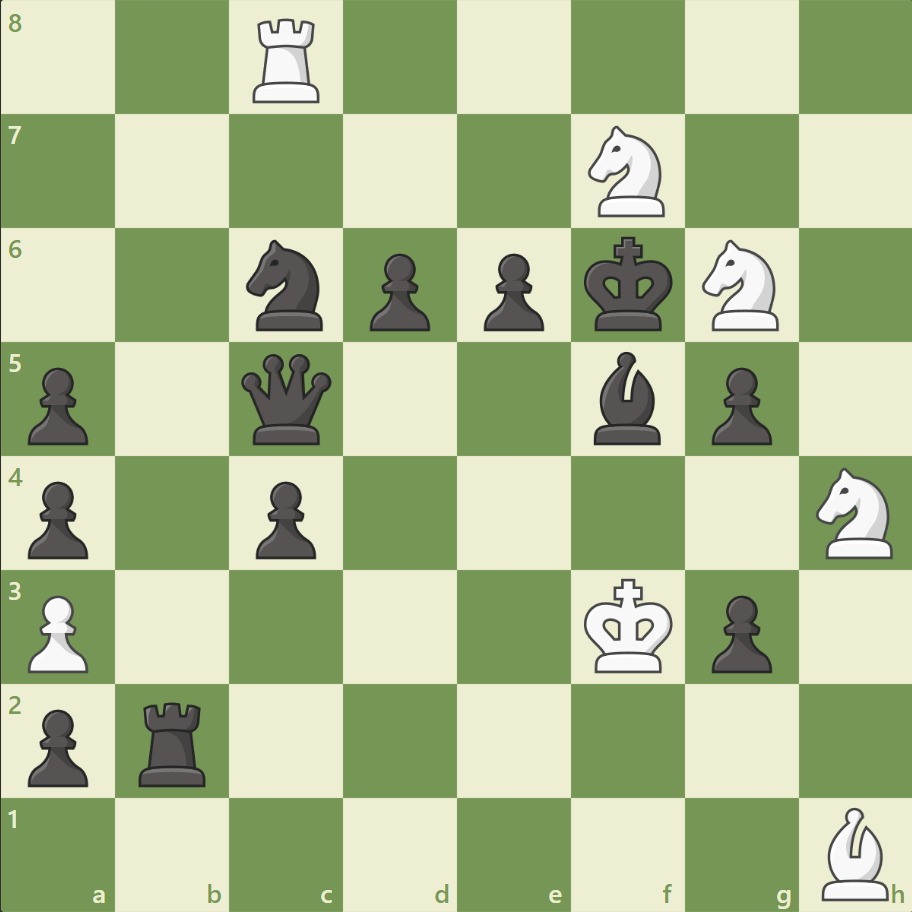B: (812, 801, 896, 904)
K: (579, 571, 679, 679)
N: (692, 234, 789, 337), (806, 461, 903, 564), (579, 121, 676, 223)
P: (20, 586, 95, 677)
R: (246, 12, 329, 109)
b: (585, 347, 669, 449)
k: (579, 231, 679, 339)
n: (238, 234, 335, 337)
p: (474, 246, 549, 337), (20, 359, 95, 450), (701, 359, 776, 450), (20, 473, 95, 564), (247, 473, 322, 564), (701, 586, 776, 677), (20, 700, 95, 791), (361, 246, 435, 337)
q: (237, 349, 336, 449)
r: (133, 693, 215, 790)
